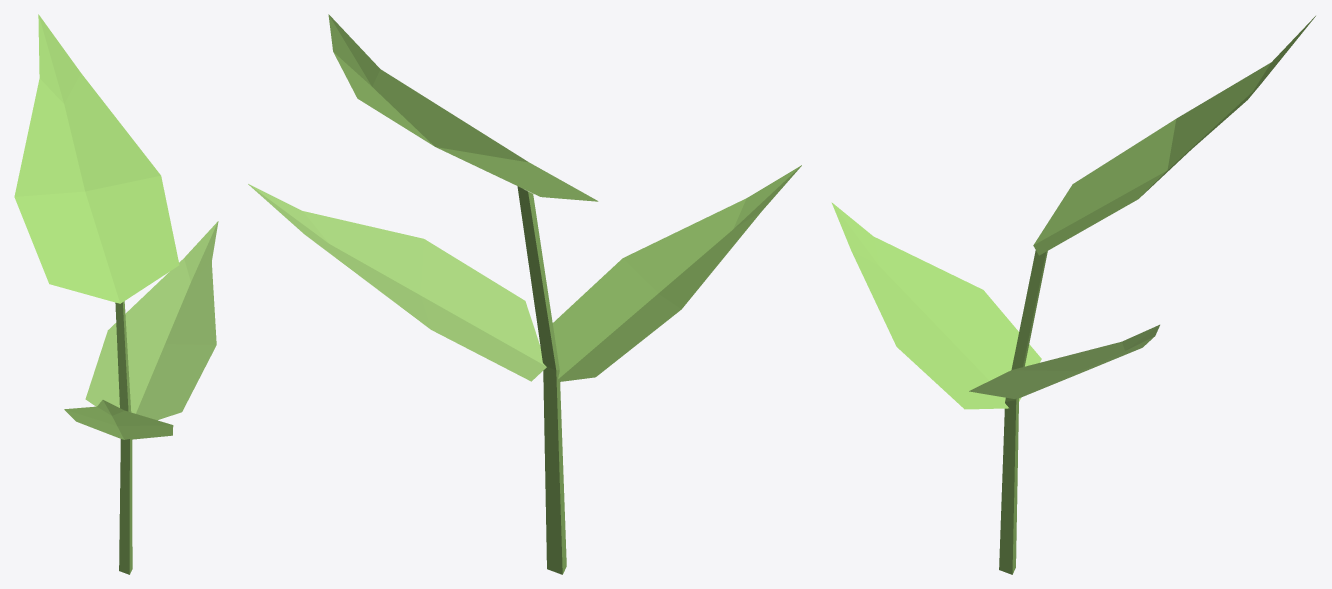
Rendered from Plant_f_TwoS_03.fbx.
3 views of the same model, side by side, from view 1: azimuth 30°, elevation 25°; view 2: azimuth 150°, elevation 25°; view 3: azimuth 270°, elevation 25° (orthographic). The views are drawn at different scales.
Parts seen in each view (by area): view 1: Plant_f_TwoS_03; view 2: Plant_f_TwoS_03; view 3: Plant_f_TwoS_03.
Part boxes in pixels (left/top/right/bottom): Plant_f_TwoS_03: left=14, top=14, right=218, bottom=574; Plant_f_TwoS_03: left=248, top=14, right=801, bottom=574; Plant_f_TwoS_03: left=831, top=16, right=1315, bottom=574.
Bounding box in the file's own units: 27.75 × 49.41 × 37.69.
